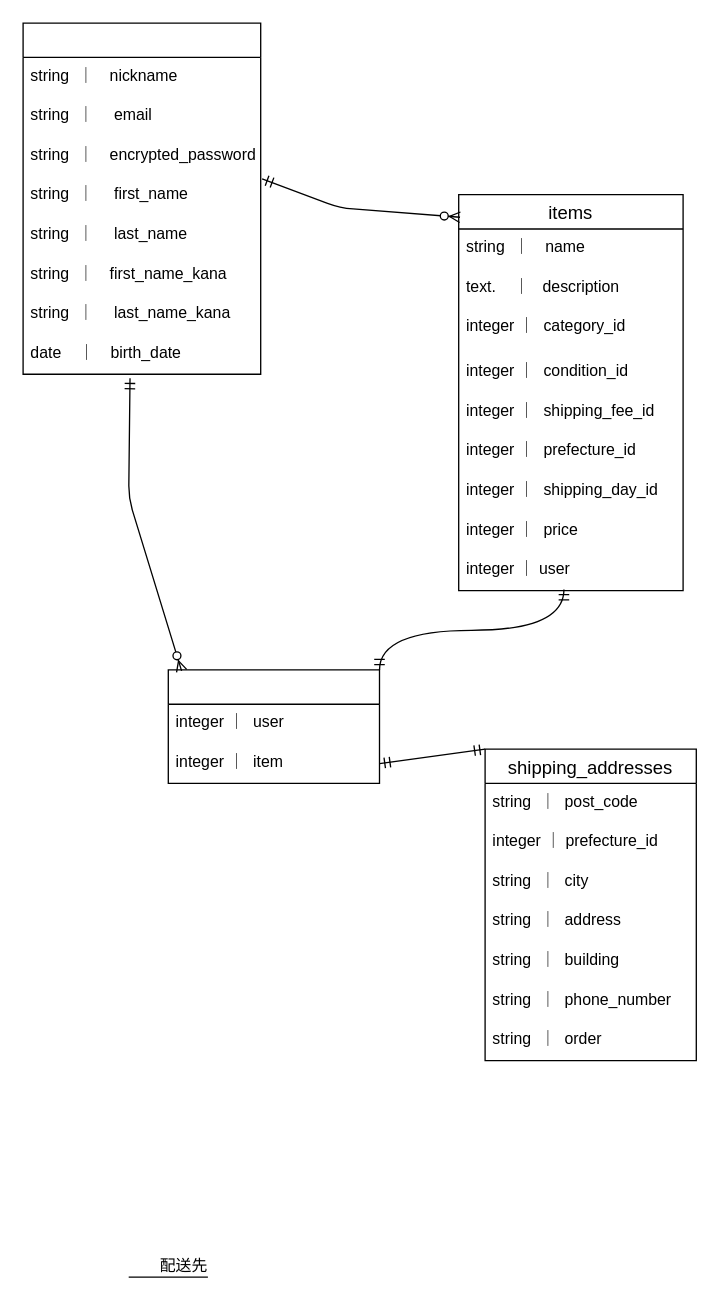
The diagram is 719 pixels wide and 1302 high, and some of its shapes have lost their labels. Here are the shapes that lost their labels. From the top down, the box of each, then its label:
(22, 22, 261, 374): Users
(167, 669, 380, 783): orders
